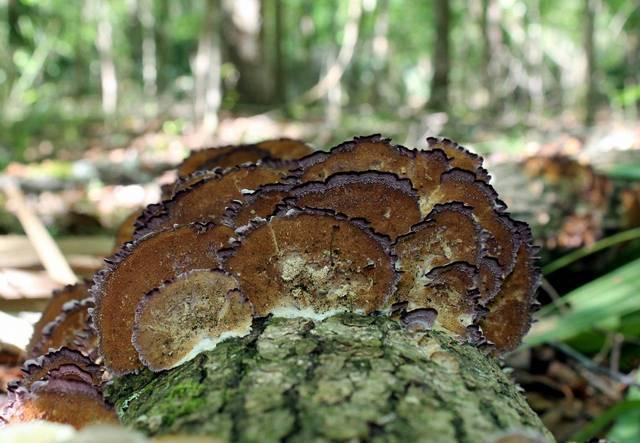Non-edible Mushroom: (86, 131, 543, 377)
